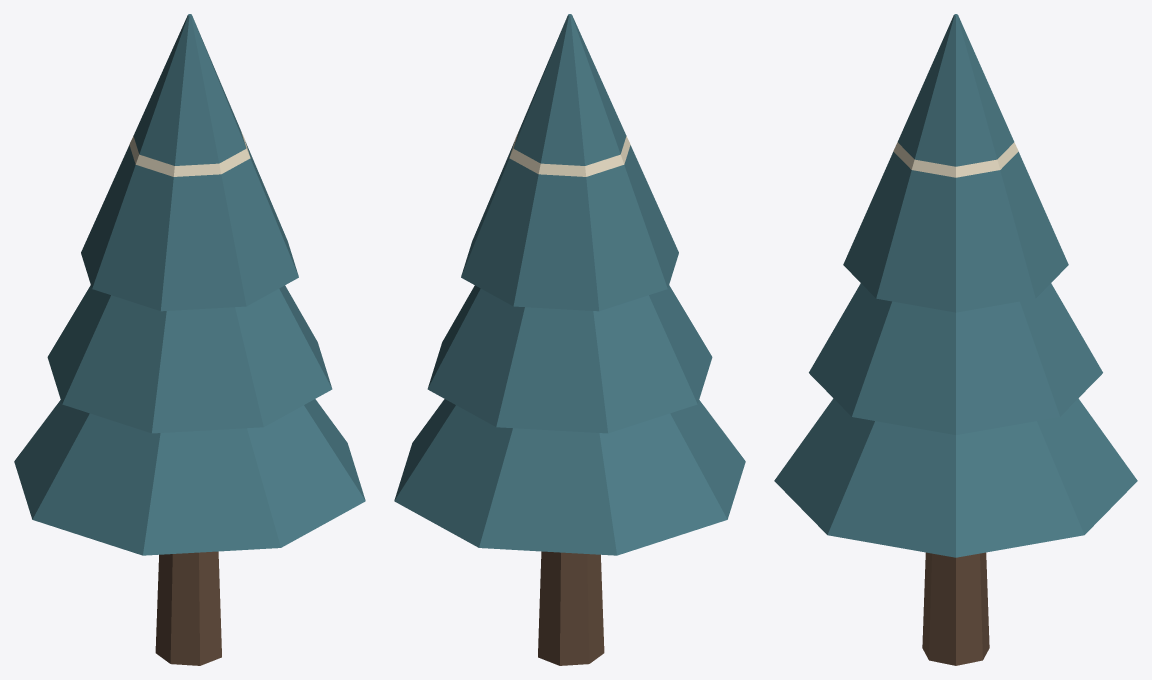
File: Kit_FrostboundGlacier_Tree_LOD0.glb
3 views of the same model, side by side, from view 1: azimuth 30°, elevation 25°; view 2: azimuth 150°, elevation 25°; view 3: azimuth 270°, elevation 25° (orthographic).
Parts seen in each view (by area): view 1: Kit_FrostboundGlacier_Tree_LOD0_FrostboundGlacier_leaf_-1_-1, Kit_FrostboundGlacier_Tree_LOD0_FrostboundGlacier_leaf_-1_0, Kit_FrostboundGlacier_Tree_LOD0_Warm timber_-1_0, Kit_FrostboundGlacier_Tree_LOD0_Warm ivory_-1_-1; view 2: Kit_FrostboundGlacier_Tree_LOD0_FrostboundGlacier_leaf_-1_-1, Kit_FrostboundGlacier_Tree_LOD0_FrostboundGlacier_leaf_-1_0, Kit_FrostboundGlacier_Tree_LOD0_Warm timber_-1_0, Kit_FrostboundGlacier_Tree_LOD0_Warm ivory_-1_-1; view 3: Kit_FrostboundGlacier_Tree_LOD0_FrostboundGlacier_leaf_-1_-1, Kit_FrostboundGlacier_Tree_LOD0_FrostboundGlacier_leaf_-1_0, Kit_FrostboundGlacier_Tree_LOD0_Warm timber_-1_0, Kit_FrostboundGlacier_Tree_LOD0_Warm ivory_-1_-1.
Part boxes in pixels (left/top/right/bottom): Kit_FrostboundGlacier_Tree_LOD0_FrostboundGlacier_leaf_-1_-1: left=14, top=285, right=365, bottom=555; Kit_FrostboundGlacier_Tree_LOD0_FrostboundGlacier_leaf_-1_0: left=81, top=14, right=298, bottom=311; Kit_FrostboundGlacier_Tree_LOD0_Warm timber_-1_0: left=155, top=551, right=221, bottom=665; Kit_FrostboundGlacier_Tree_LOD0_Warm ivory_-1_-1: left=129, top=131, right=250, bottom=176; Kit_FrostboundGlacier_Tree_LOD0_FrostboundGlacier_leaf_-1_-1: left=394, top=285, right=745, bottom=555; Kit_FrostboundGlacier_Tree_LOD0_FrostboundGlacier_leaf_-1_0: left=461, top=14, right=678, bottom=311; Kit_FrostboundGlacier_Tree_LOD0_Warm timber_-1_0: left=538, top=551, right=604, bottom=665; Kit_FrostboundGlacier_Tree_LOD0_Warm ivory_-1_-1: left=509, top=131, right=630, bottom=176; Kit_FrostboundGlacier_Tree_LOD0_FrostboundGlacier_leaf_-1_-1: left=774, top=283, right=1137, bottom=557; Kit_FrostboundGlacier_Tree_LOD0_FrostboundGlacier_leaf_-1_0: left=843, top=14, right=1068, bottom=312; Kit_FrostboundGlacier_Tree_LOD0_Warm timber_-1_0: left=922, top=552, right=989, bottom=665; Kit_FrostboundGlacier_Tree_LOD0_Warm ivory_-1_-1: left=893, top=142, right=1018, bottom=177.
Bounding box in the file's own units: 13.92 × 26.88 × 13.92.
